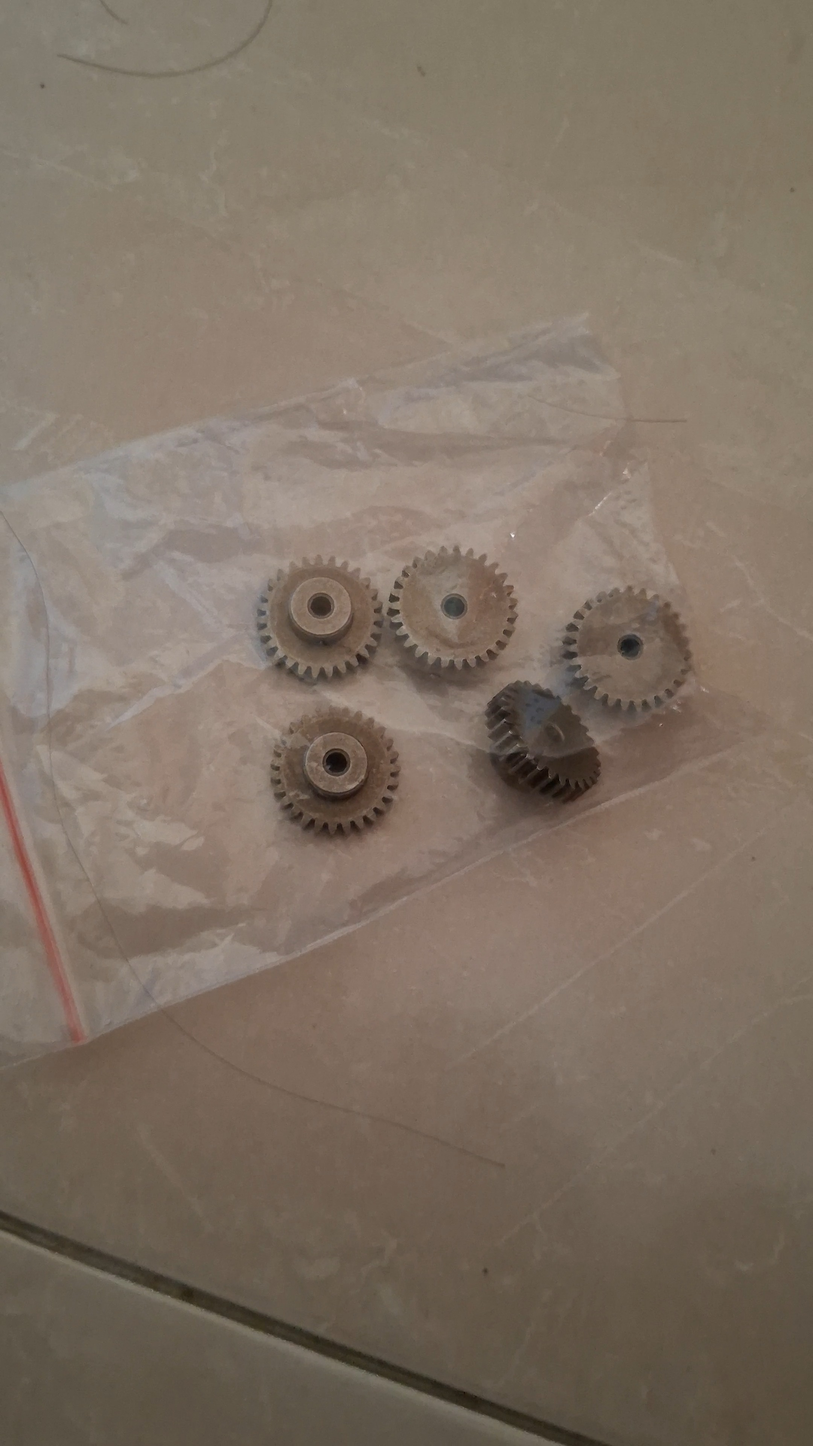spur gear: (271, 707, 399, 834), (388, 546, 516, 670), (563, 587, 691, 709), (257, 557, 383, 679), (486, 681, 600, 800)
